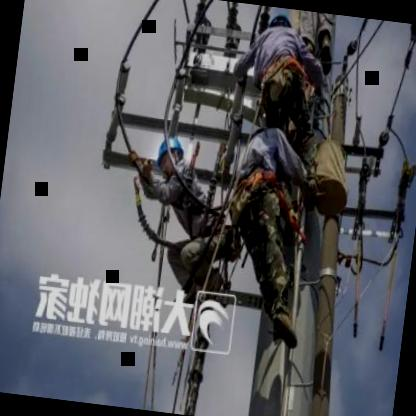helmet: (156, 132, 184, 172), (267, 6, 296, 42)
